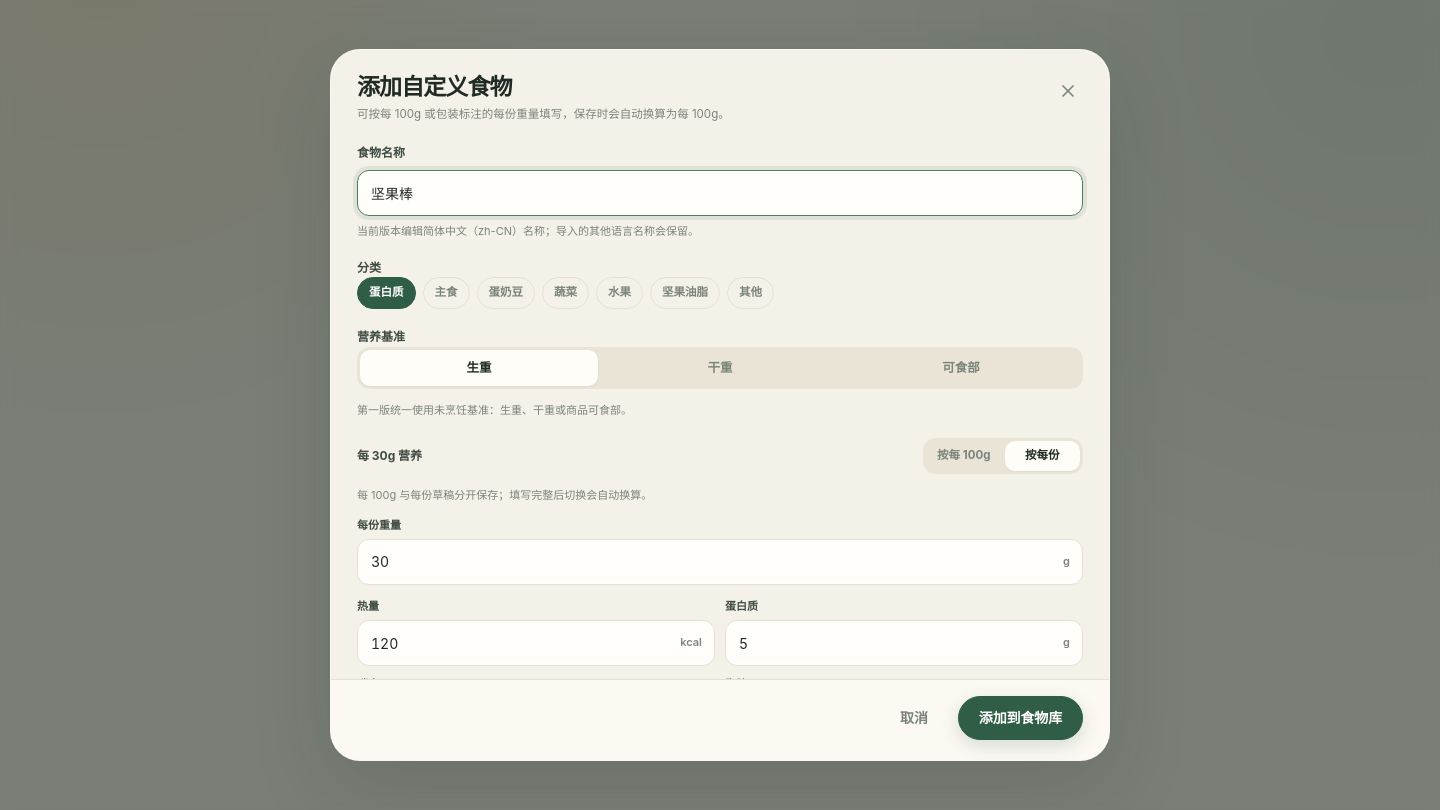
FoodEditorModal › auto-converts per-serving inputs when switching back to per-100g mode
Earlier steps of the test are not shown.
Click the button "按每 100g" at point(964, 456), box [926,441,1002,471]
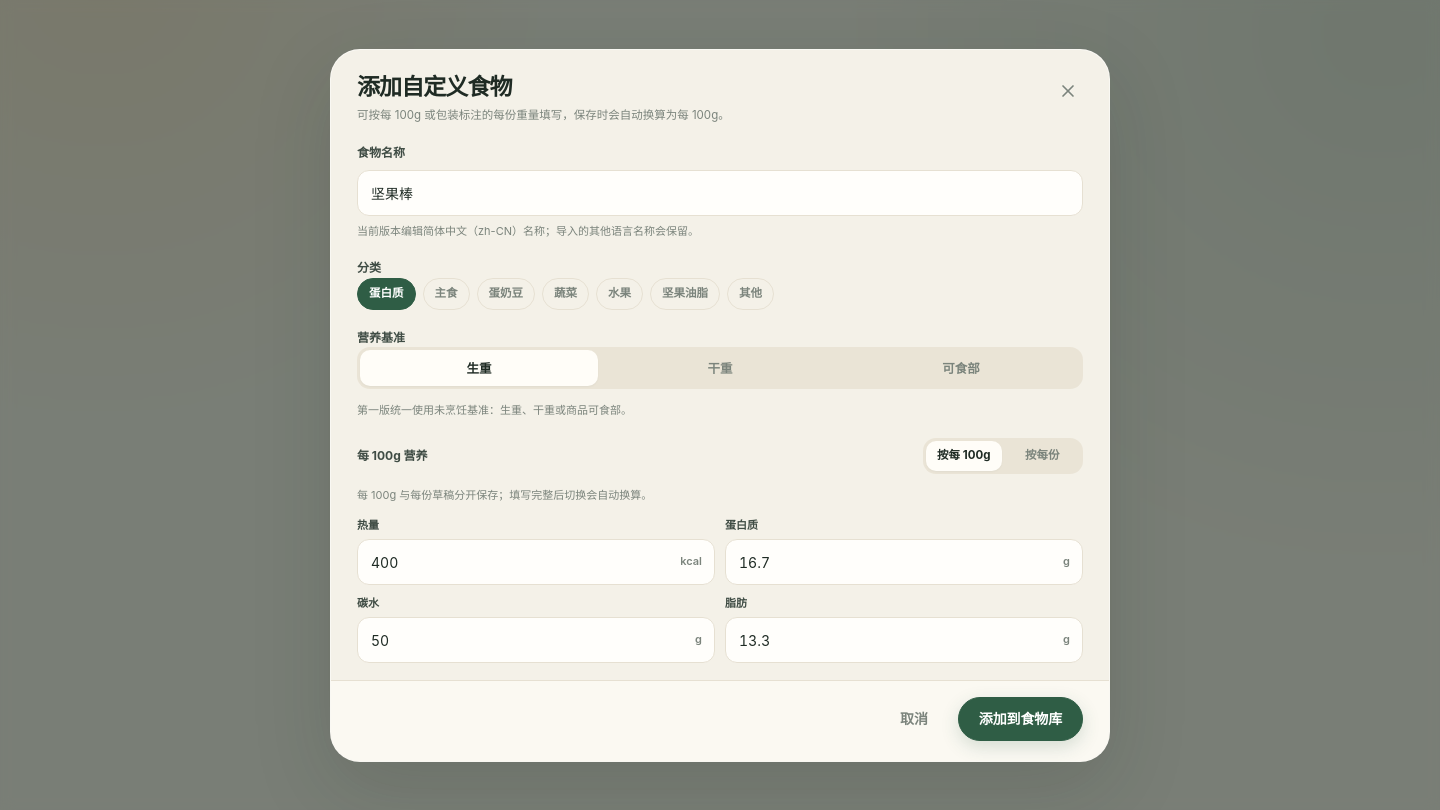
Check: the number field labelled "蛋白质 g" holds "16.7", box [725,539,1083,585]
Check: the number field labelled "脂肪 g" holds "13.3", box [725,617,1083,663]
